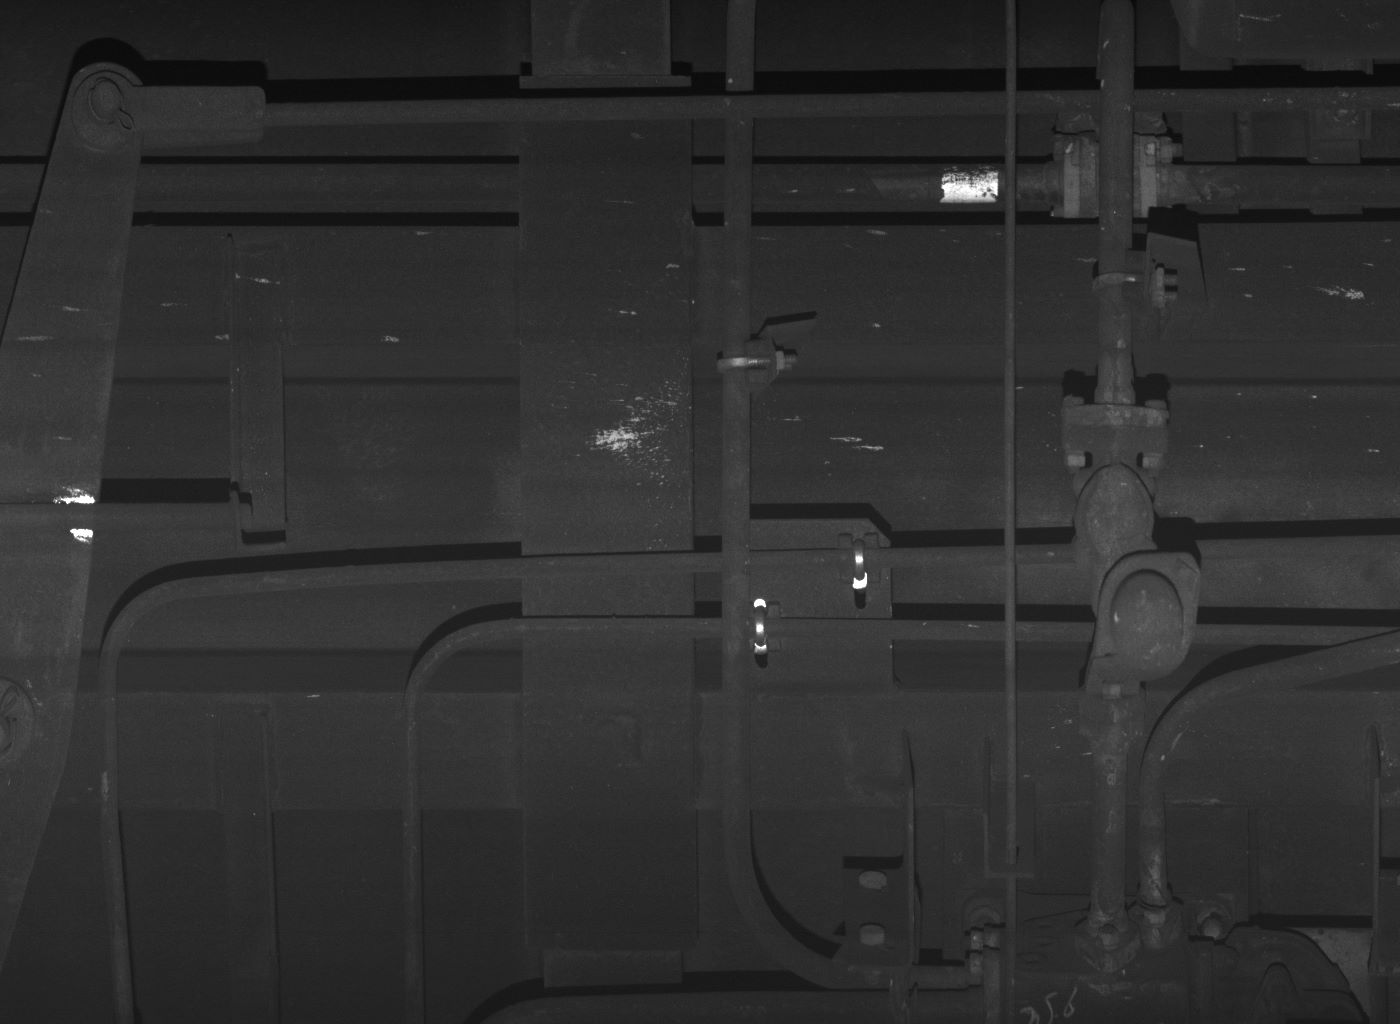normal: (1073, 466, 1157, 569)
